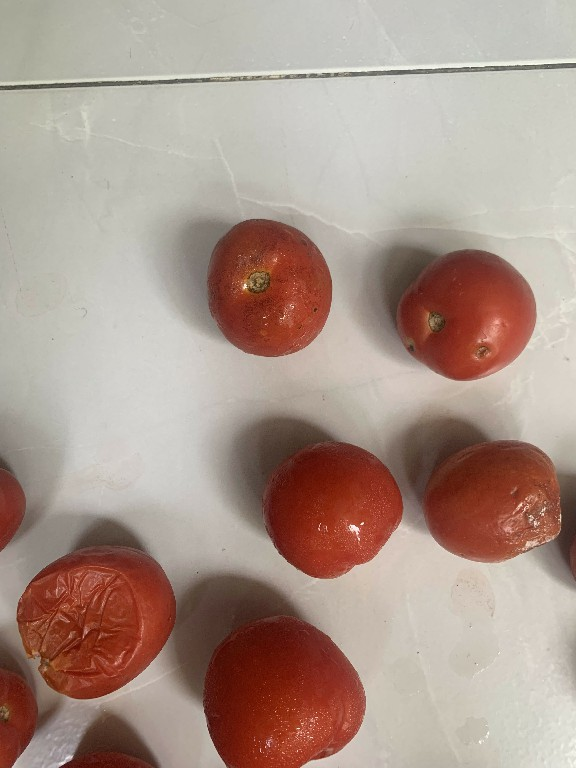NG: (2, 538, 180, 704), (188, 203, 337, 376), (393, 229, 539, 393), (408, 424, 562, 579)
OK: (200, 604, 365, 768), (259, 426, 414, 588)
